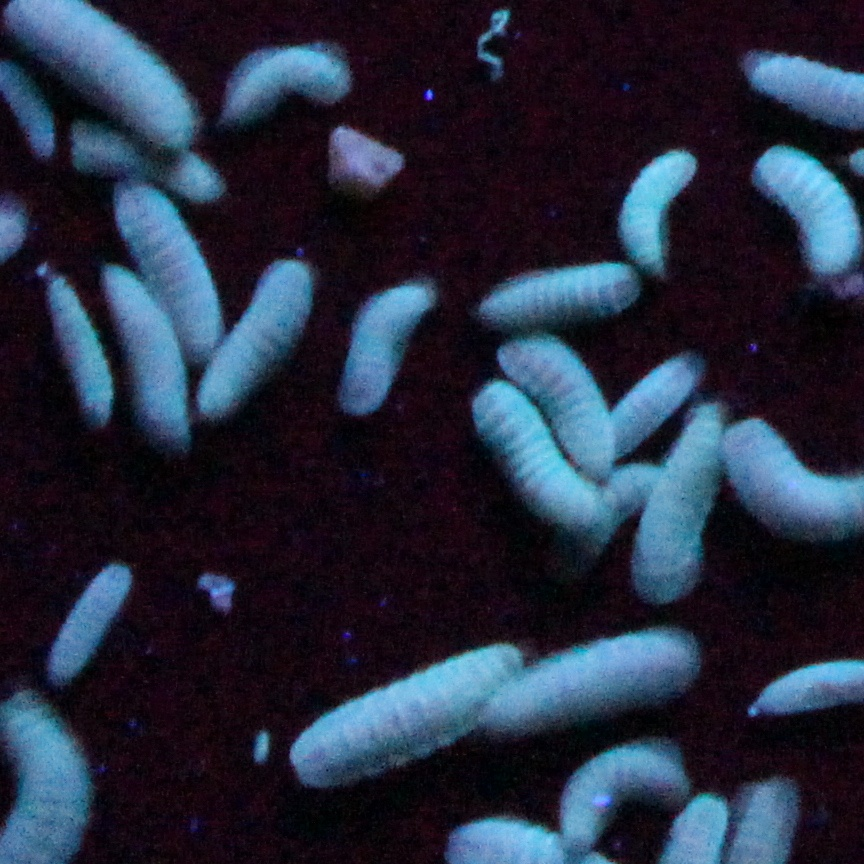larve: (296, 638, 510, 781), (484, 627, 698, 741), (478, 393, 613, 547), (627, 404, 724, 596), (201, 270, 310, 410), (124, 198, 216, 350), (101, 270, 184, 436), (747, 153, 858, 276), (33, 273, 115, 427), (570, 741, 693, 841), (333, 284, 421, 418), (41, 570, 130, 676), (236, 44, 350, 124), (475, 267, 627, 324), (615, 150, 690, 256)
